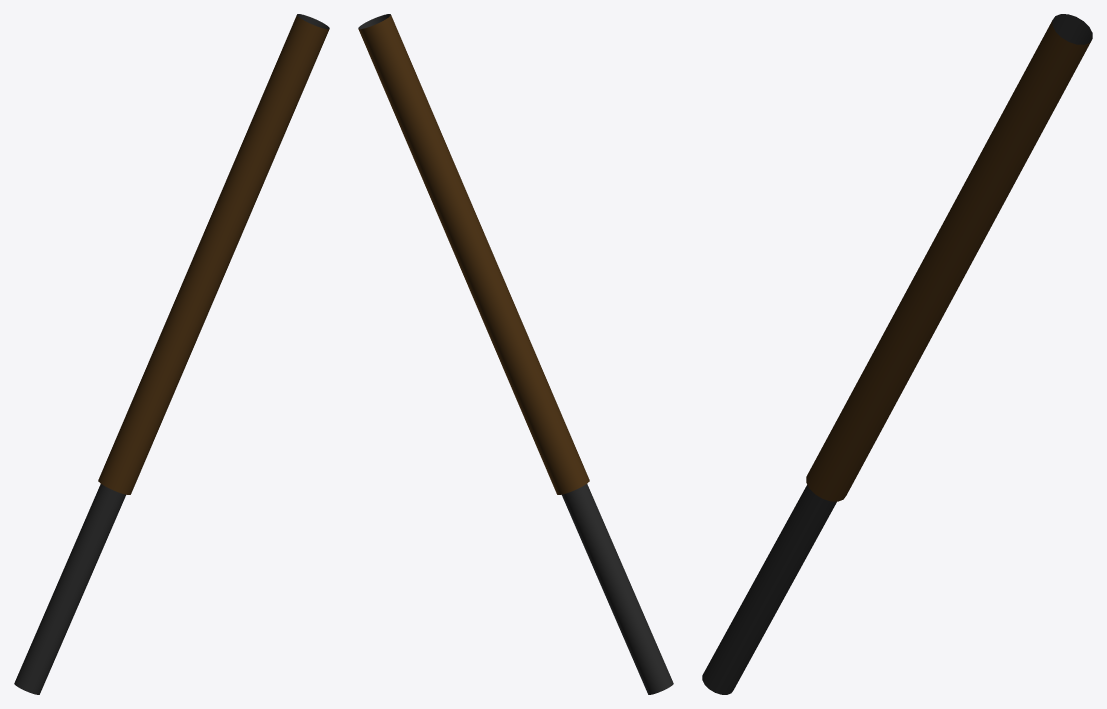
File: Vering Rechts achter voet.fbx
3 views of the same model, side by side, from view 1: azimuth 30°, elevation 25°; view 2: azimuth 150°, elevation 25°; view 3: azimuth 330°, elevation 25° (orthographic). The views are drawn at different scales.
Visible parts, largest first — view 1: vering.001; view 2: vering.001; view 3: vering.001.
Boxes of the visible parts, x1,y1,x2,y2 form: vering.001: (14, 14, 329, 694); vering.001: (358, 14, 673, 694); vering.001: (702, 14, 1092, 694).
Size of the model in its own units: 140 by 262 by 13.99.
